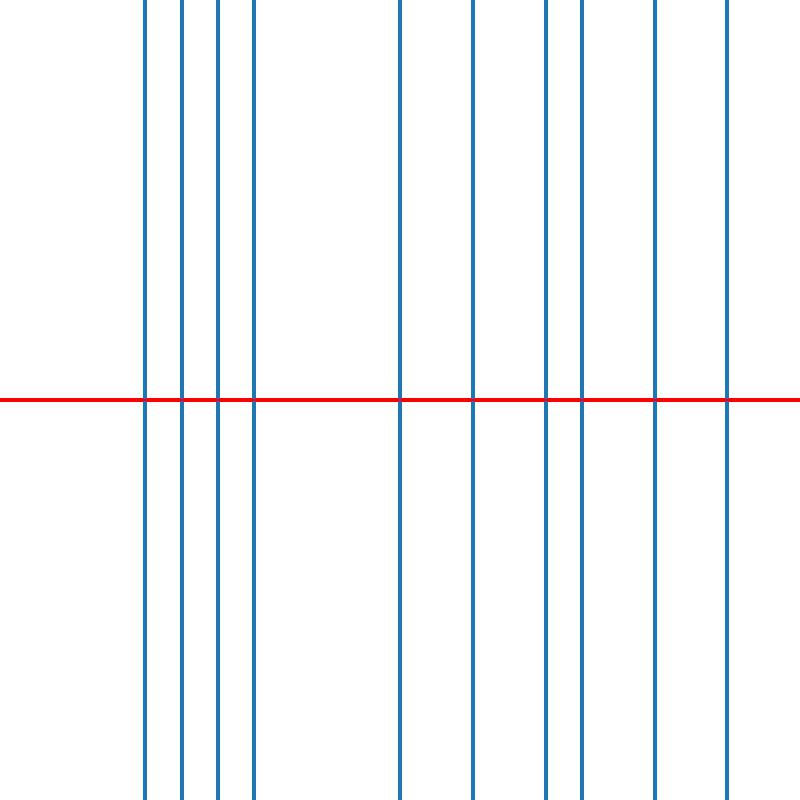root: (141, 396, 149, 404), (541, 396, 549, 404), (650, 396, 658, 404), (250, 396, 258, 404), (396, 396, 403, 404), (723, 396, 730, 404), (469, 396, 476, 404), (578, 396, 585, 404), (214, 396, 221, 404), (178, 396, 185, 404)
